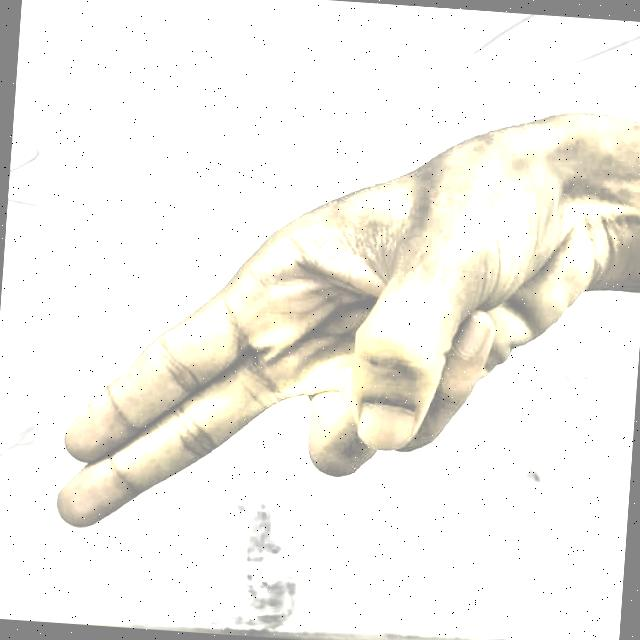Ha: (45, 62, 620, 603)
